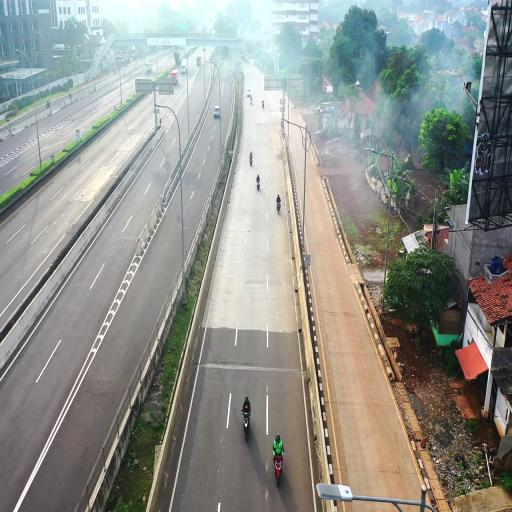vehicle: (274, 455, 282, 486), (243, 411, 250, 440), (171, 70, 179, 85), (196, 54, 202, 67), (214, 106, 220, 118), (182, 60, 187, 73), (146, 63, 151, 73), (277, 202, 280, 214), (247, 89, 251, 97), (250, 155, 252, 167), (257, 182, 259, 191), (262, 101, 264, 109), (251, 98, 252, 105)
